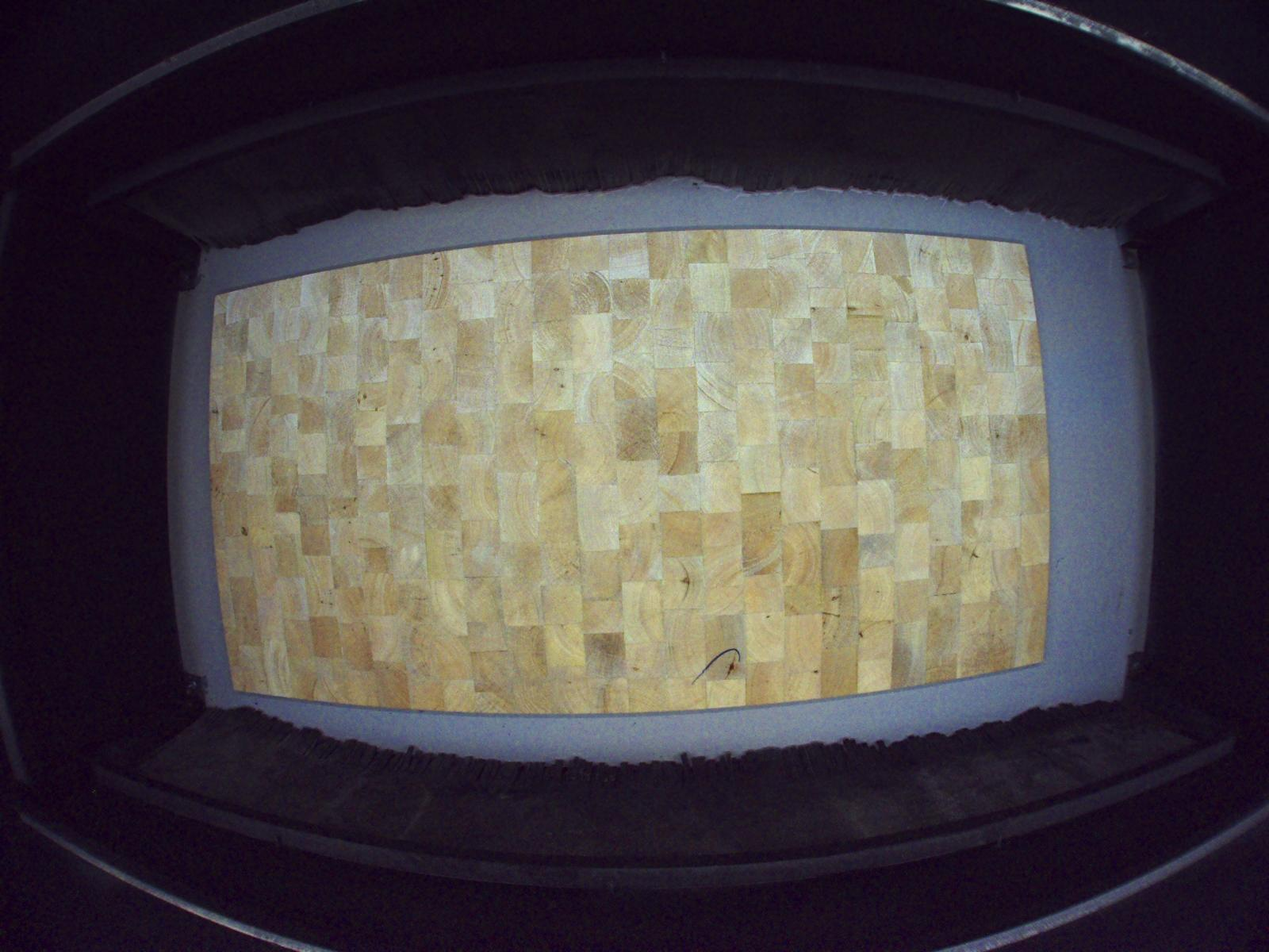sheck_ecuatoriano: (674, 558, 691, 604), (857, 620, 883, 640), (725, 648, 739, 680), (967, 543, 981, 567), (211, 399, 220, 424)
